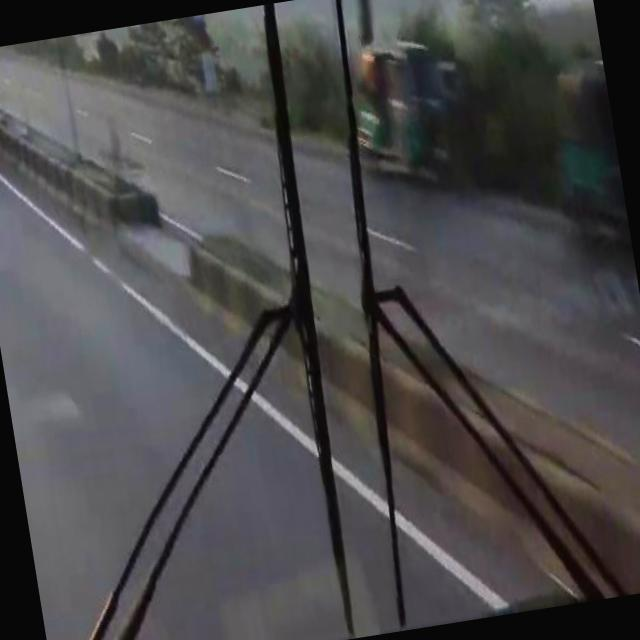motorcycle: (342, 32, 453, 196), (538, 53, 624, 223)
